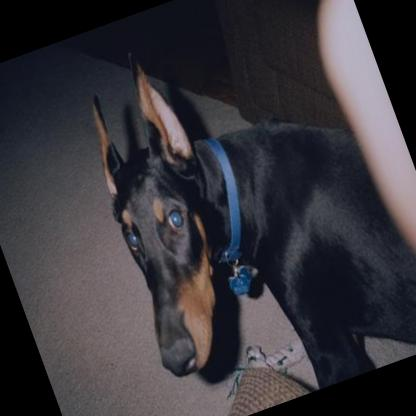Doberman: (56, 0, 416, 416)
